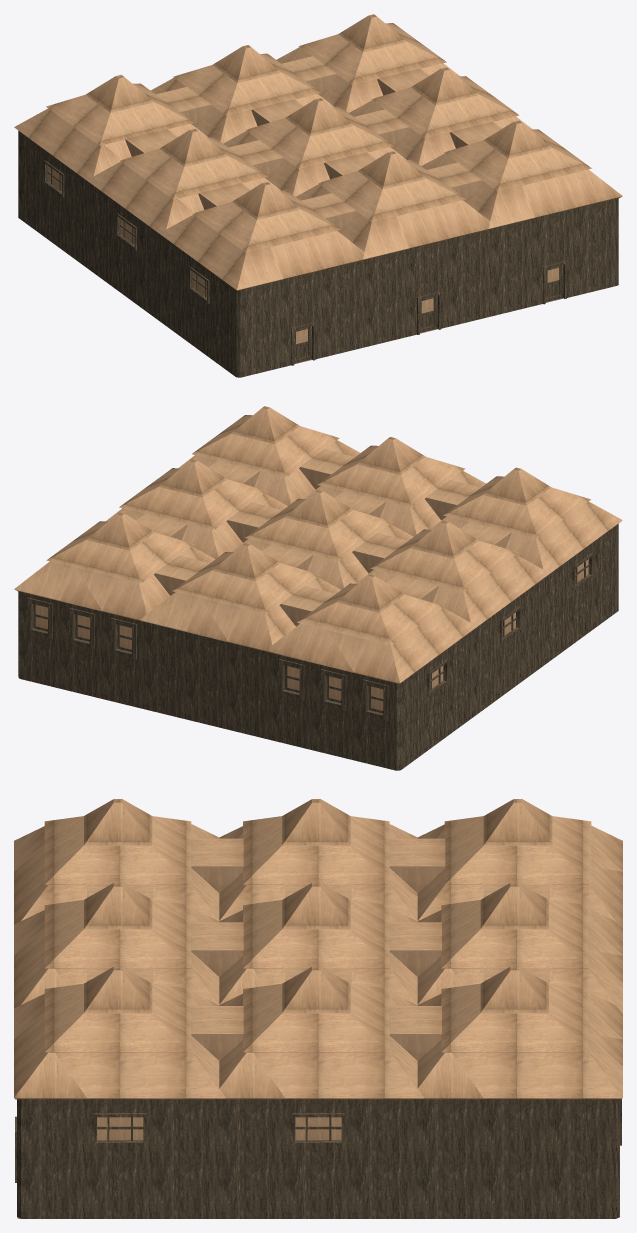
Rendered from House fix.fbx.
3 views of the same model, one above another, from view 1: azimuth 30°, elevation 25°; view 2: azimuth 150°, elevation 25°; view 3: azimuth 270°, elevation 25° (orthographic). The views are drawn at different scales.
Visible parts, largest first — view 1: roof_pointHigh (×9), wall (×30), roof_slopeCorner (×15), roof_flatCenter (×12), roof_slope (×6), doorway_doorWoodWindow (×3), window_decorativeLarge (×3); view 2: roof_pointHigh (×9), wall (×27), roof_slopeCorner (×15), window_closed (×6), roof_flatCenter (×12), roof_slope (×6), window_decorativeLarge (×3); view 3: roof_pointHigh (×9), wall (×16), roof_slopeCorner (×24), roof_slope (×9), roof_flatCenter (×6), window_decorativeLarge (×2).
Part boxes in pixels (x1,y1,x2,y2): roof_pointHigh (×9): (46,14,591,252); wall (×30): (18,131,617,377); roof_slopeCorner (×15): (14,75,622,291); roof_flatCenter (×12): (125,56,501,233); roof_slope (×6): (41,119,576,279); doorway_doorWoodWindow (×3): (282,252,575,367); window_decorativeLarge (×3): (42,148,211,315); roof_pointHigh (×9): (46,406,590,645); wall (×27): (19,524,618,770); roof_slopeCorner (×15): (14,468,622,684); window_closed (×6): (19,591,400,726); roof_flatCenter (×12): (136,449,511,626); roof_slope (×6): (60,512,595,672); window_decorativeLarge (×3): (425,542,594,708); roof_pointHigh (×9): (44,799,591,1052); wall (×16): (17,1099,619,1218); roof_slopeCorner (×24): (14,825,622,1100); roof_slope (×9): (14,843,622,1099); roof_flatCenter (×6): (191,838,445,1060); window_decorativeLarge (×2): (87,1099,351,1158).
Size of the model in its own units: 92.12 by 34.56 by 92.12.
Materials: 12 (11 with a texture image).
